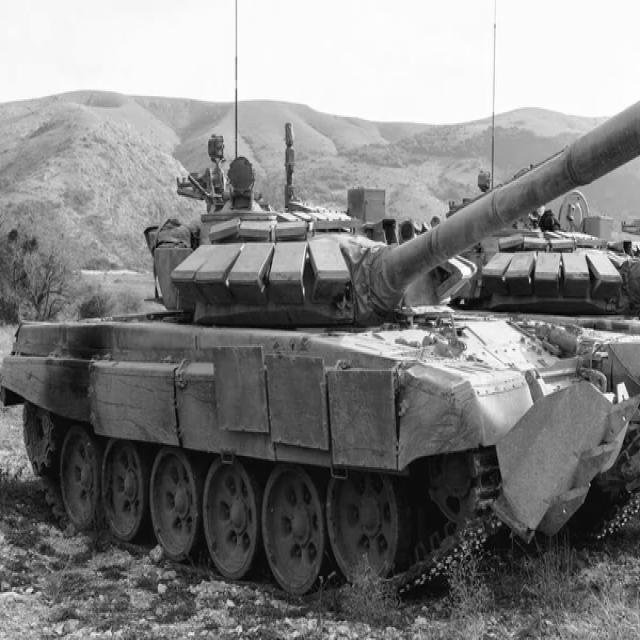Tank: (7, 110, 640, 604)
